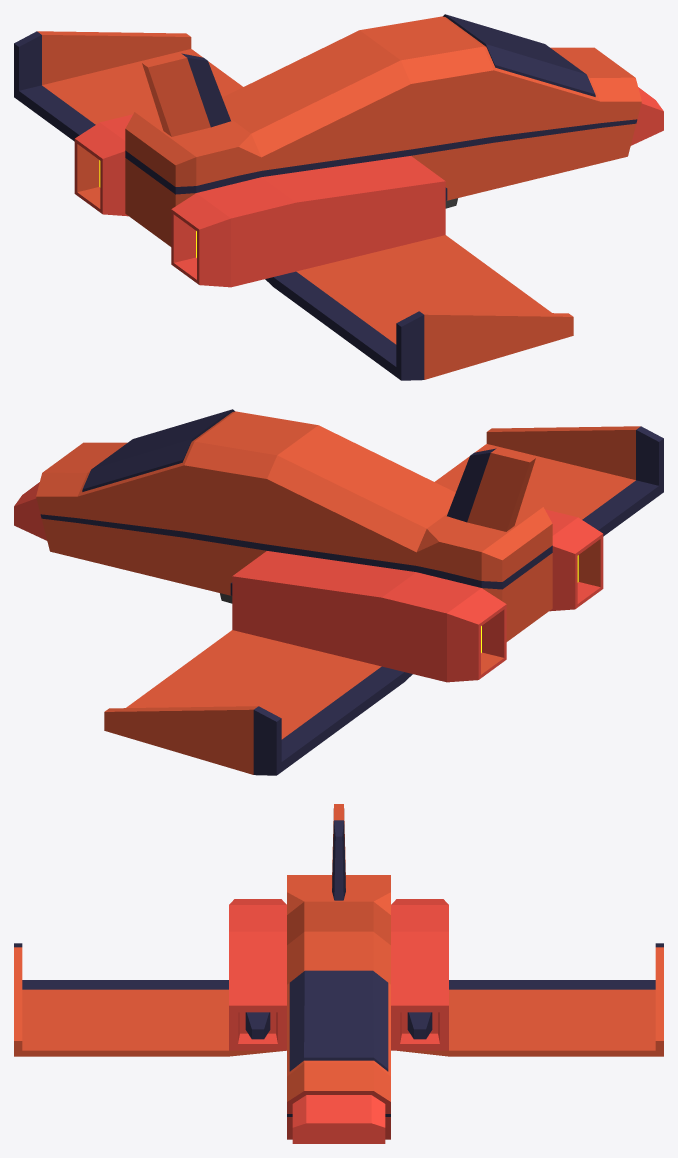
The model's file is rocket.glb.
The picture shows the model from 3 angles, top to bottom: view 1: azimuth 30°, elevation 25°; view 2: azimuth 150°, elevation 25°; view 3: azimuth 270°, elevation 25°; orthographic projection. The views are drawn at different scales.
Parts seen in each view (by area): view 1: Cube_0; view 2: Cube_0; view 3: Cube_0.
Boxes of the visible parts, bbox=[...] form: Cube_0: bbox=[14, 14, 663, 380]; Cube_0: bbox=[14, 409, 663, 775]; Cube_0: bbox=[14, 804, 663, 1143].
Size of the model in its own units: 11.71 by 5.06 by 15.73.
